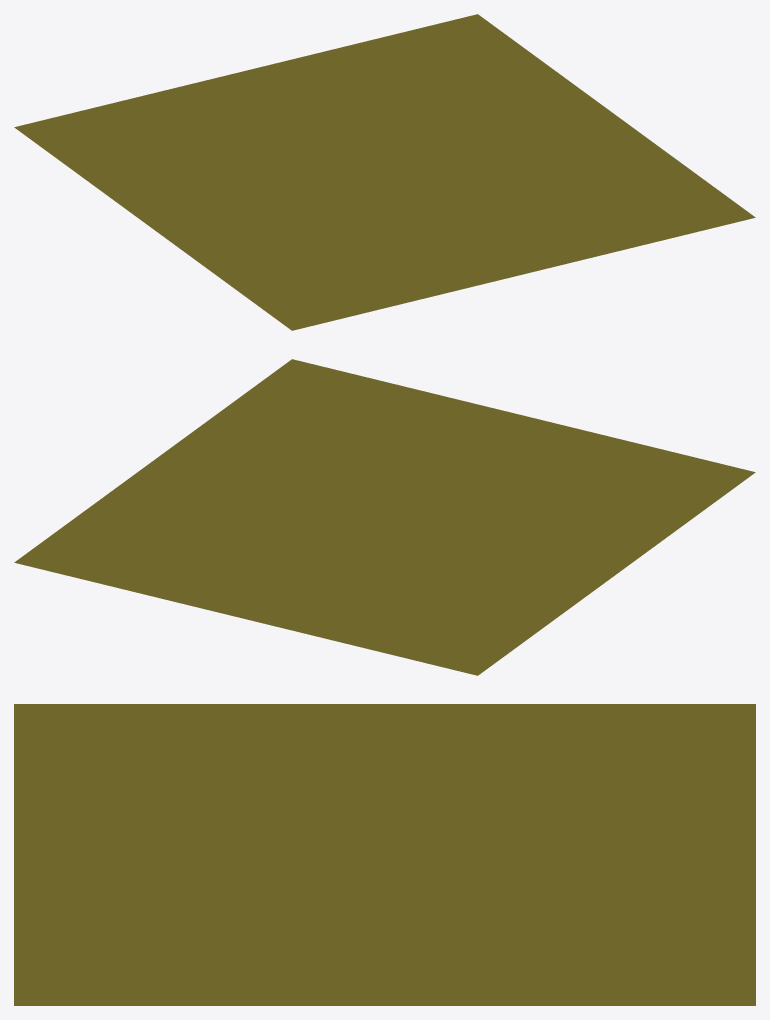
3 renders of one model, top to bottom at view 1: azimuth 30°, elevation 25°; view 2: azimuth 150°, elevation 25°; view 3: azimuth 270°, elevation 25°, orthographic. The views are drawn at different scales.
Bounding box in the file's own units: 0.9629 × 0 × 1.
Materials: 1 (1 with a texture image).
